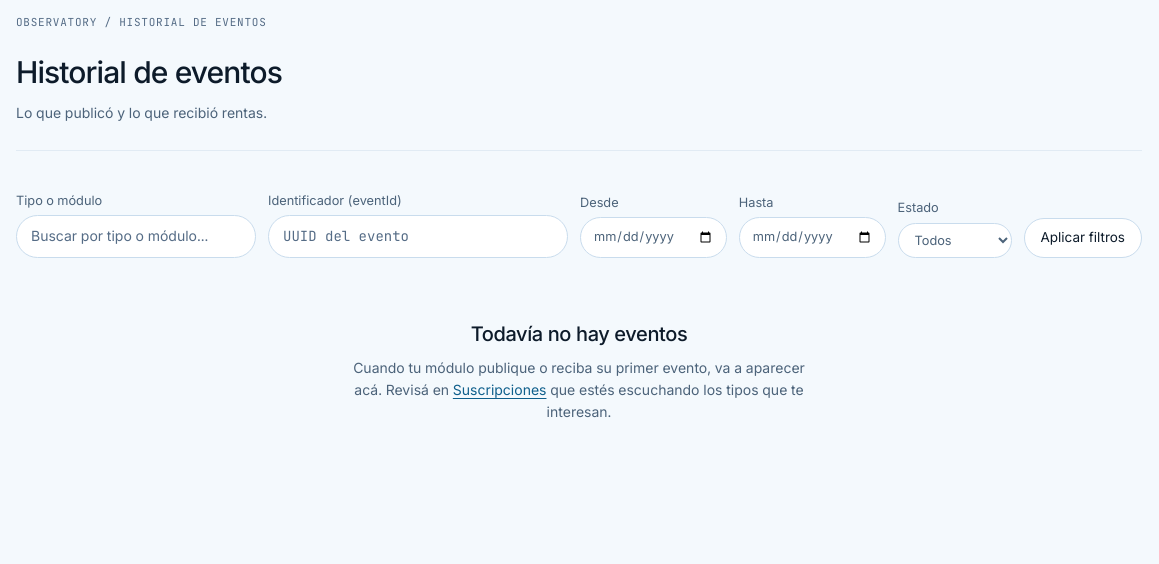
Historial de eventos › una búsqueda sin resultados no se confunde con un hub sin eventos
Expected: the heading "Todavía no hay eventos" is shown, [471,322,687,346]
Type "noExiste" into the search field named "buscar eventos" at (136, 236), box [16,215,256,258]
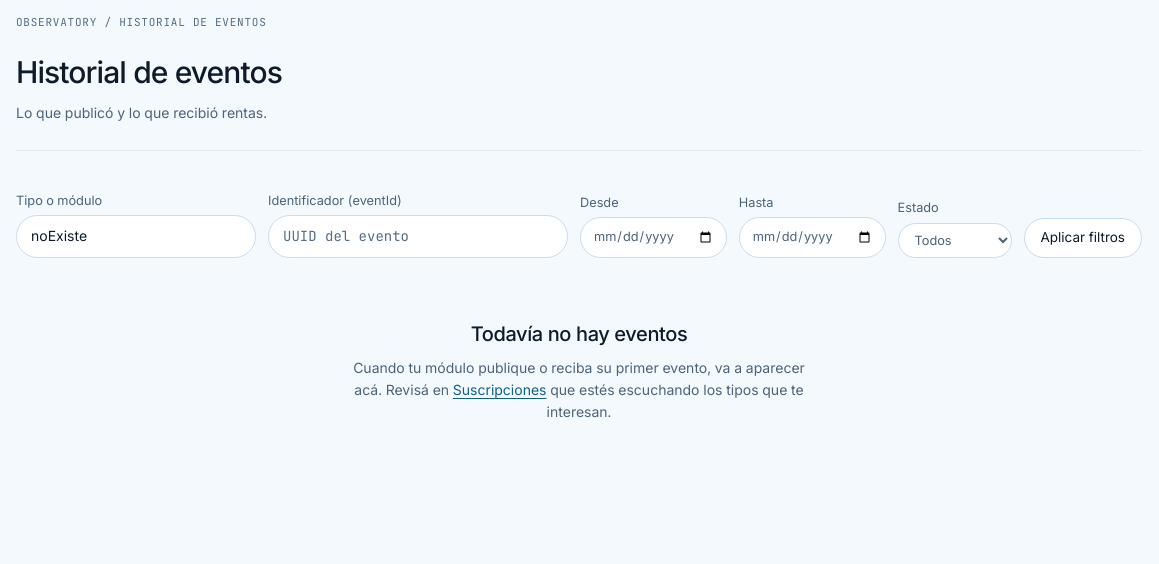
Click the button "Aplicar filtros" at (1083, 238), box [1024,218,1142,258]
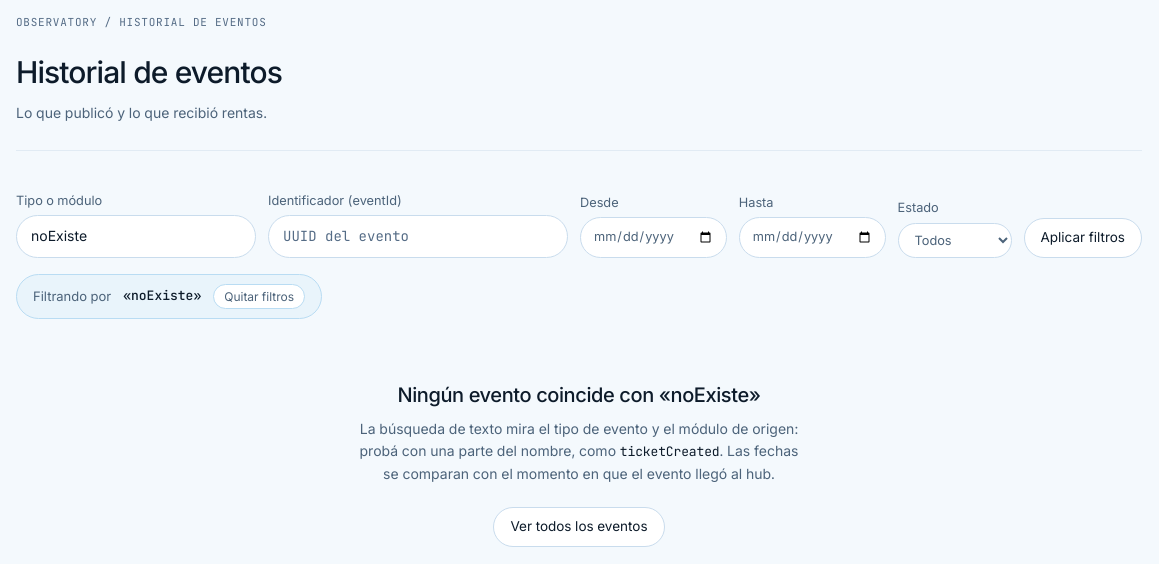
Result: the heading "Ningún evento coincide con «noExiste»" is shown at [397,383,761,407]
Result: the heading "Todavía no hay eventos" is gone
